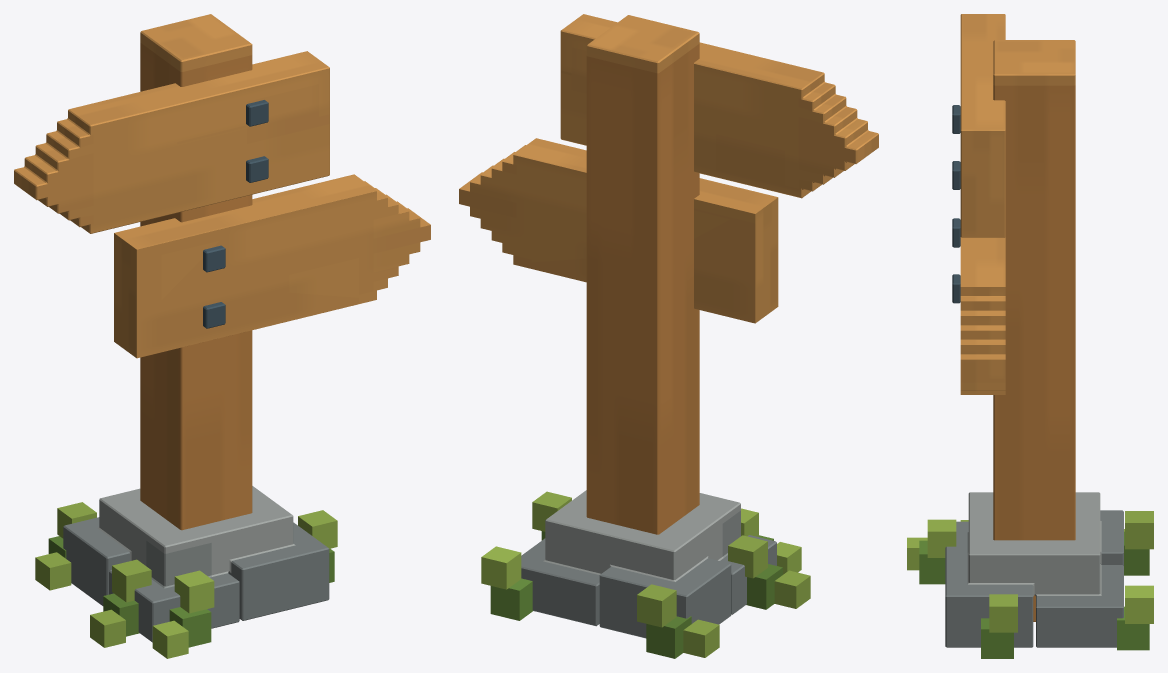
Rendered from SM_VMF_Facility_DirectionSign.fbx.
The picture shows the model from 3 angles, left to right: view 1: azimuth 30°, elevation 25°; view 2: azimuth 150°, elevation 25°; view 3: azimuth 270°, elevation 25°; orthographic projection.
Visible parts, largest first — view 1: SM_VMF_Facility_DirectionSign_LowerRight_ArrowBoard, SM_VMF_Facility_DirectionSign_UpperLeft_ArrowBoard, SM_VMF_Facility_DirectionSign_SignPost, SM_VMF_Facility_DirectionSign_Foot_StoneFoot, SM_VMF_Facility_DirectionSign_Grass_Blocks; view 2: SM_VMF_Facility_DirectionSign_SignPost, SM_VMF_Facility_DirectionSign_UpperLeft_ArrowBoard, SM_VMF_Facility_DirectionSign_LowerRight_ArrowBoard, SM_VMF_Facility_DirectionSign_Foot_StoneFoot, SM_VMF_Facility_DirectionSign_Grass_Blocks; view 3: SM_VMF_Facility_DirectionSign_SignPost, SM_VMF_Facility_DirectionSign_Foot_StoneFoot, SM_VMF_Facility_DirectionSign_UpperLeft_ArrowBoard, SM_VMF_Facility_DirectionSign_Grass_Blocks, SM_VMF_Facility_DirectionSign_LowerRight_ArrowBoard.
Boxes of the visible parts, x1=… form: SM_VMF_Facility_DirectionSign_LowerRight_ArrowBoard: x1=114, y1=174, x2=430, y2=358; SM_VMF_Facility_DirectionSign_UpperLeft_ArrowBoard: x1=14, y1=51, x2=329, y2=233; SM_VMF_Facility_DirectionSign_SignPost: x1=140, y1=14, x2=252, y2=530; SM_VMF_Facility_DirectionSign_Foot_StoneFoot: x1=63, y1=486, x2=329, y2=642; SM_VMF_Facility_DirectionSign_Grass_Blocks: x1=35, y1=502, x2=337, y2=658; SM_VMF_Facility_DirectionSign_SignPost: x1=586, y1=15, x2=699, y2=534; SM_VMF_Facility_DirectionSign_UpperLeft_ArrowBoard: x1=560, y1=14, x2=878, y2=198; SM_VMF_Facility_DirectionSign_LowerRight_ArrowBoard: x1=459, y1=138, x2=778, y2=323; SM_VMF_Facility_DirectionSign_Foot_StoneFoot: x1=521, y1=490, x2=776, y2=638; SM_VMF_Facility_DirectionSign_Grass_Blocks: x1=481, y1=491, x2=810, y2=658; SM_VMF_Facility_DirectionSign_SignPost: x1=993, y1=40, x2=1075, y2=621; SM_VMF_Facility_DirectionSign_Foot_StoneFoot: x1=945, y1=492, x2=1123, y2=647; SM_VMF_Facility_DirectionSign_UpperLeft_ArrowBoard: x1=960, y1=14, x2=1005, y2=237; SM_VMF_Facility_DirectionSign_Grass_Blocks: x1=907, y1=511, x2=1153, y2=658; SM_VMF_Facility_DirectionSign_LowerRight_ArrowBoard: x1=960, y1=237, x2=1005, y2=394.
Bounding box in the file's own units: 110 × 147 × 60.
1 material, 1 textured.
